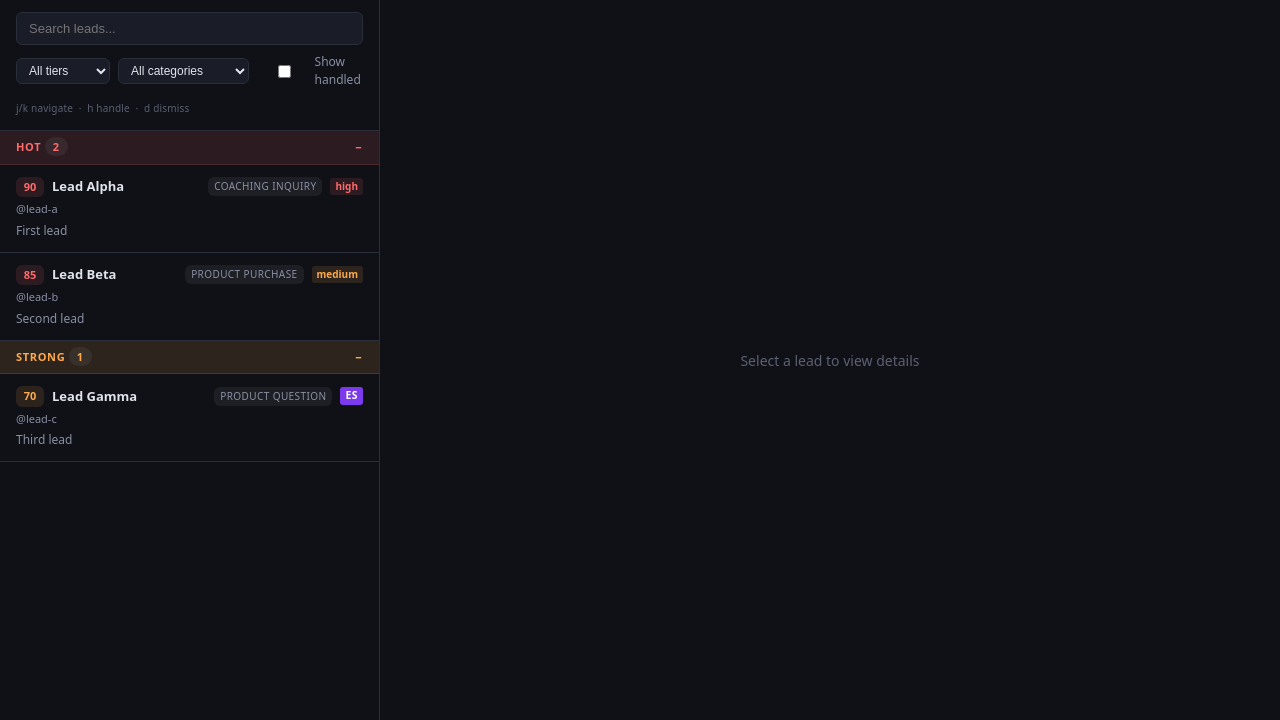
Scenario: Page — S4 keyboard navigation › pressing d marks the selected lead as dismissed
The width and height of the screenshot is (1280, 720).
Click the text "Lead Alpha" at (88, 186), box [52,177,124,195]
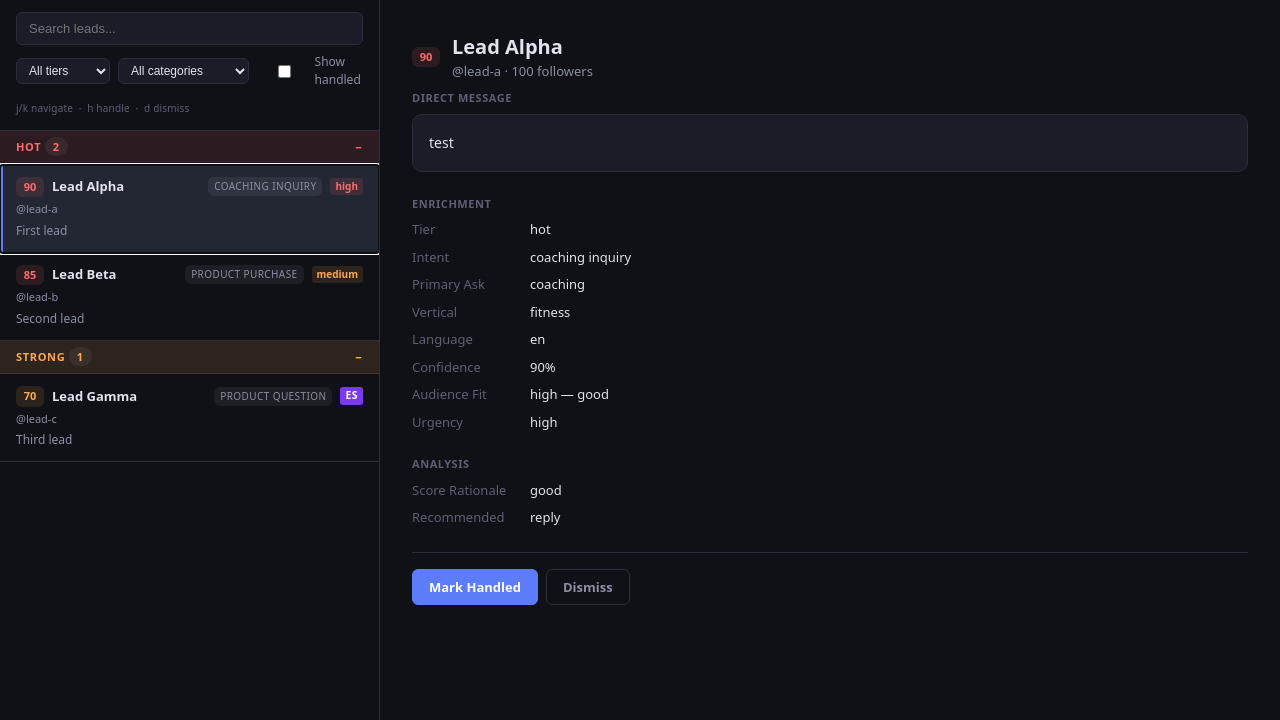
Type keys "d"
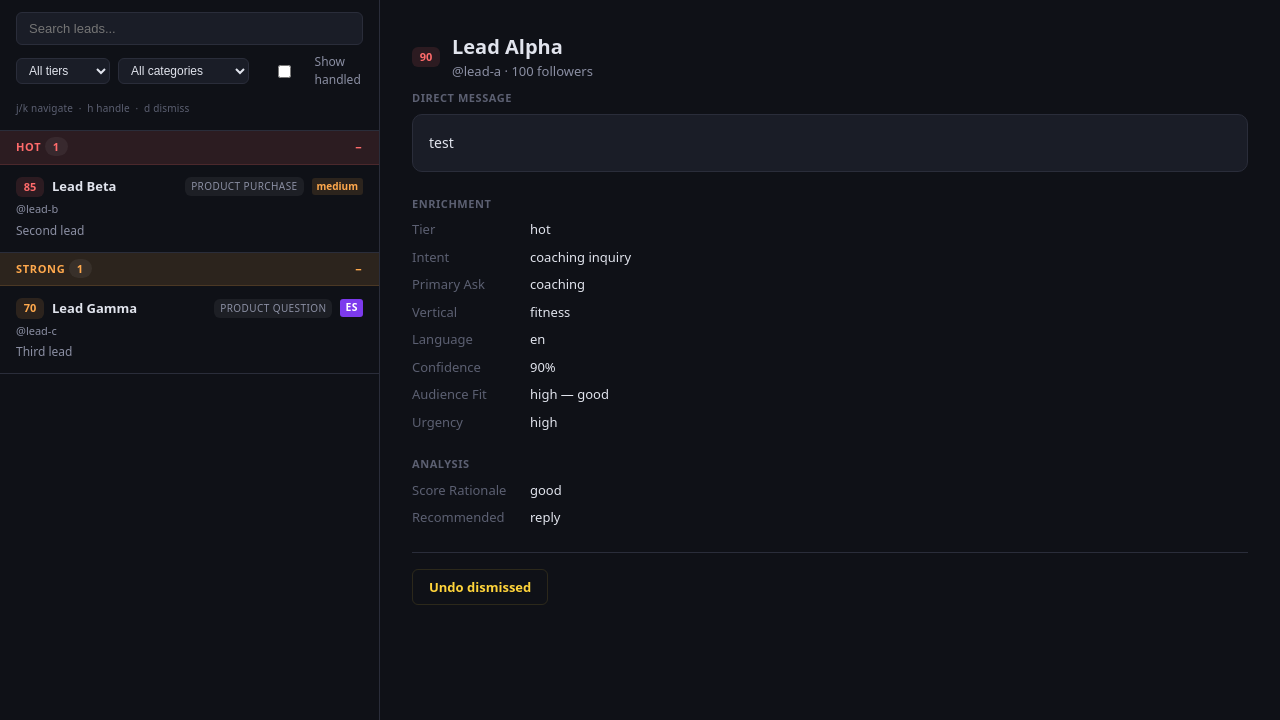
Expected: the button "Undo dismissed" is shown, [412,569,548,605]
